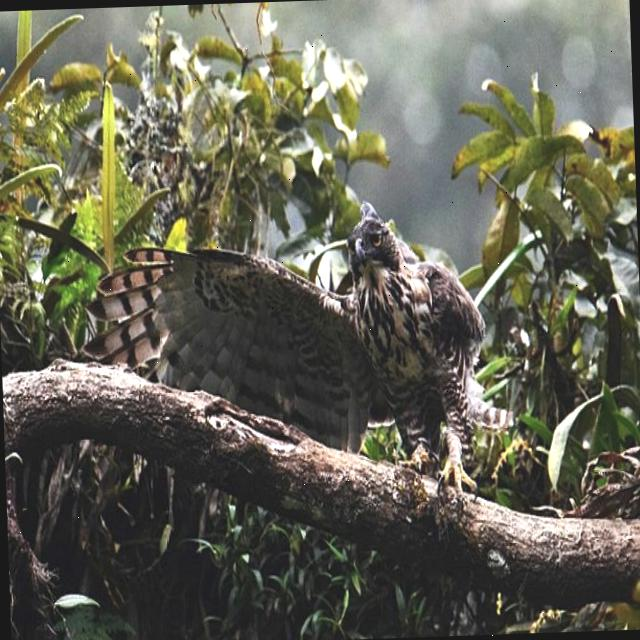Elang Jawa: (84, 170, 530, 550)
